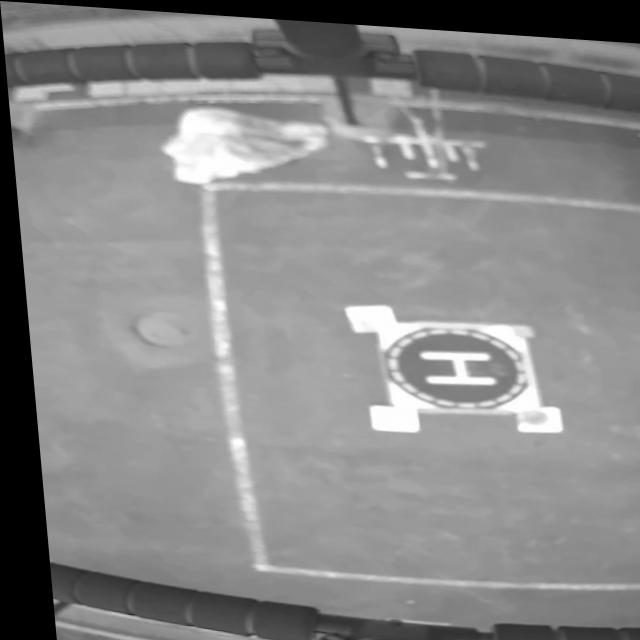Helipad: (413, 344, 494, 378)
